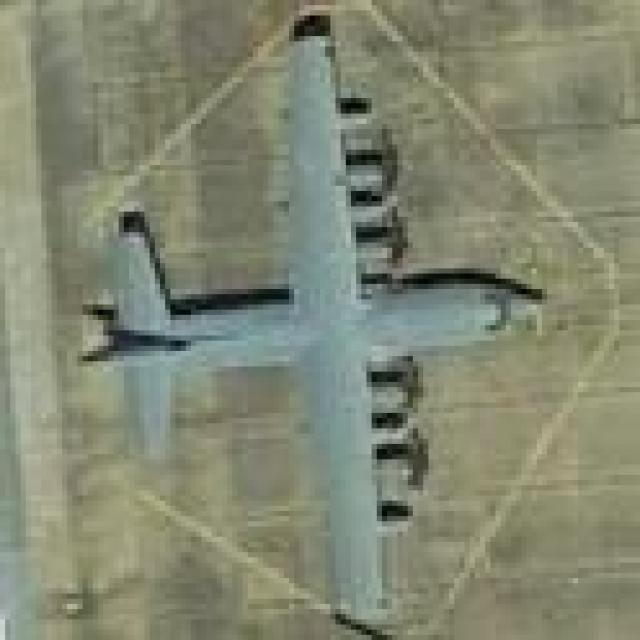C-130_TopDown: (66, 7, 548, 637)
